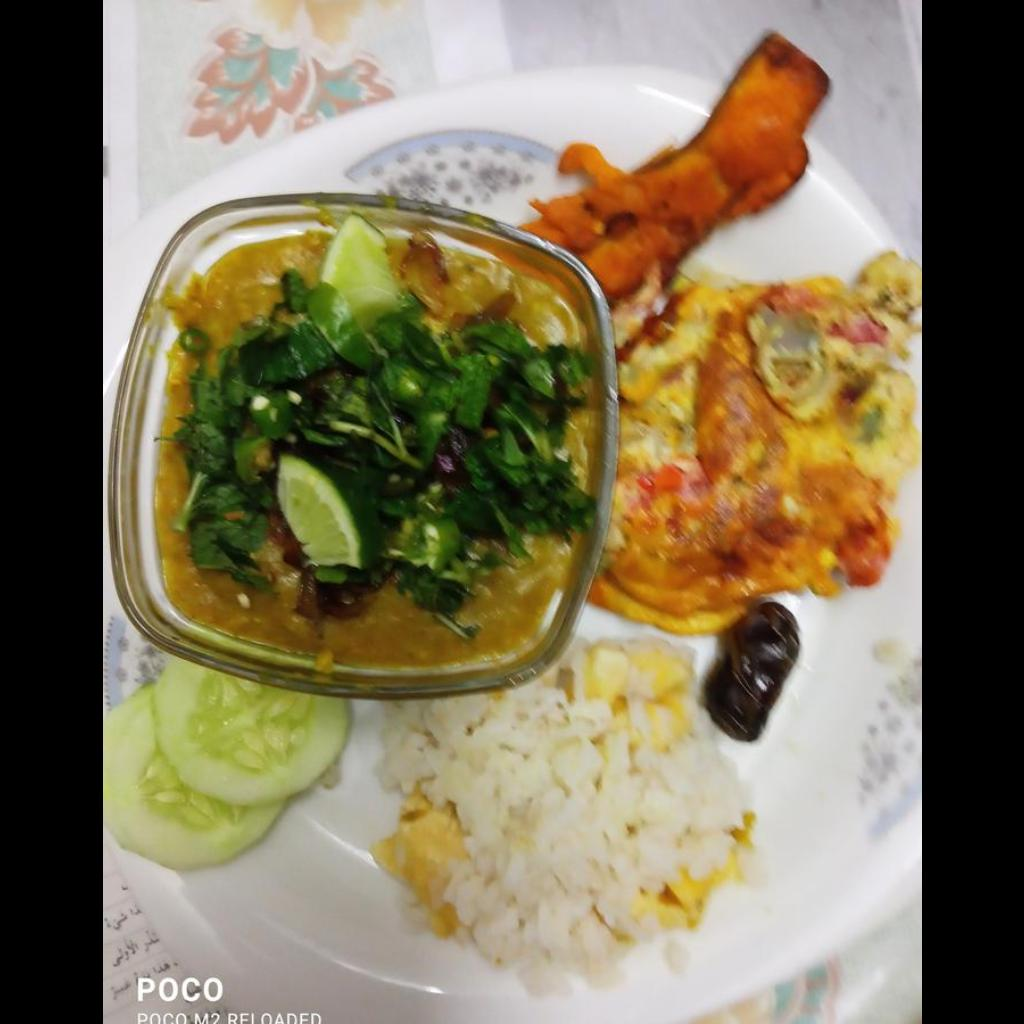beguni: (521, 29, 840, 290)
cucumber: (104, 657, 352, 869)
daal: (107, 193, 615, 697)
dates: (703, 598, 799, 741)
egg-poached: (610, 249, 909, 619)
rice: (375, 641, 751, 992)
